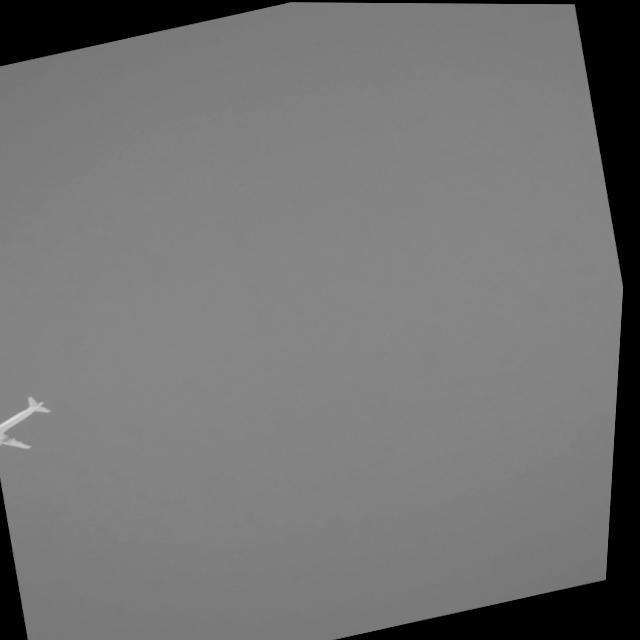aeroplane: (0, 380, 69, 458)
